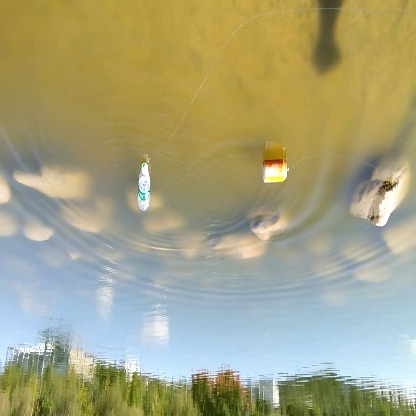bottle: (256, 153, 298, 193), (135, 161, 156, 211)
